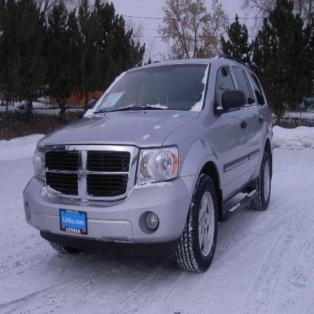Auto: (24, 57, 275, 275)
